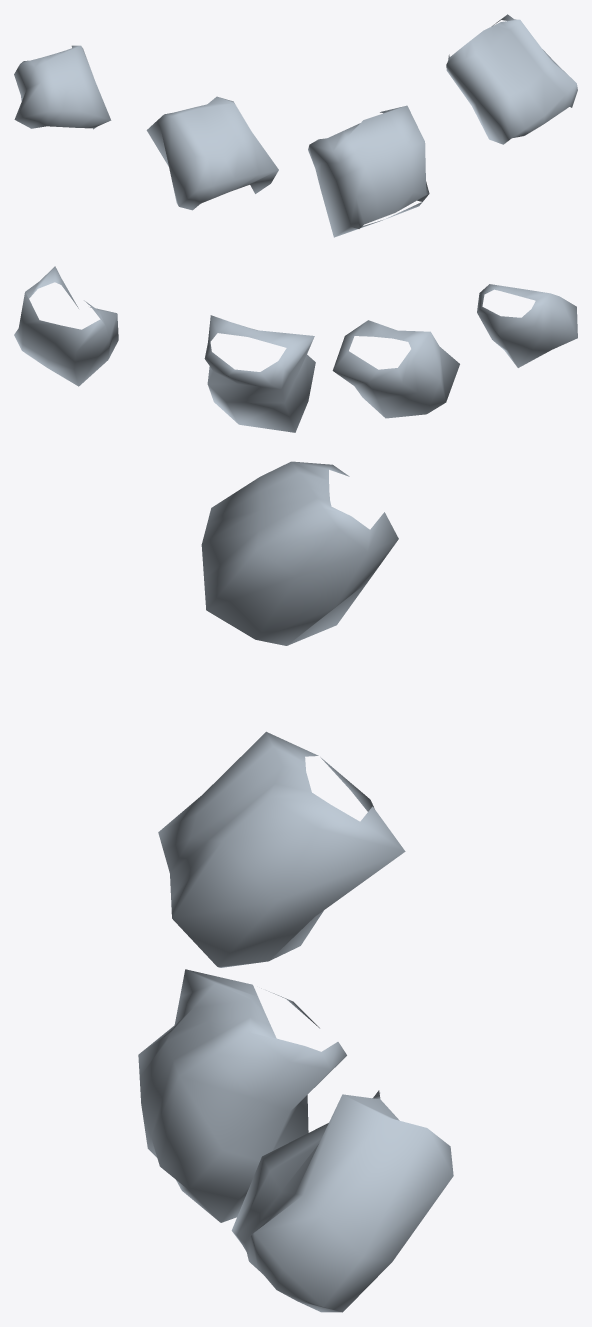
Rendered from articular-capsules-of-proximal-interphalangeal-joints-l.glb.
The picture shows the model from 3 angles, top to bottom: view 1: azimuth 30°, elevation 25°; view 2: azimuth 150°, elevation 25°; view 3: azimuth 270°, elevation 25°; orthographic projection. The views are drawn at different scales.
Visible parts, largest first — view 1: Articular capsules of proximal interphalangeal joints.l; view 2: Articular capsules of proximal interphalangeal joints.l; view 3: Articular capsules of proximal interphalangeal joints.l.
Part boxes in pixels (<box>): Articular capsules of proximal interphalangeal joints.l: <box>14,14,577,237</box>; Articular capsules of proximal interphalangeal joints.l: <box>14,266,577,432</box>; Articular capsules of proximal interphalangeal joints.l: <box>138,461,453,1312</box>.
Bounding box in the file's own units: 0.0914 × 0.035 × 0.0226.
